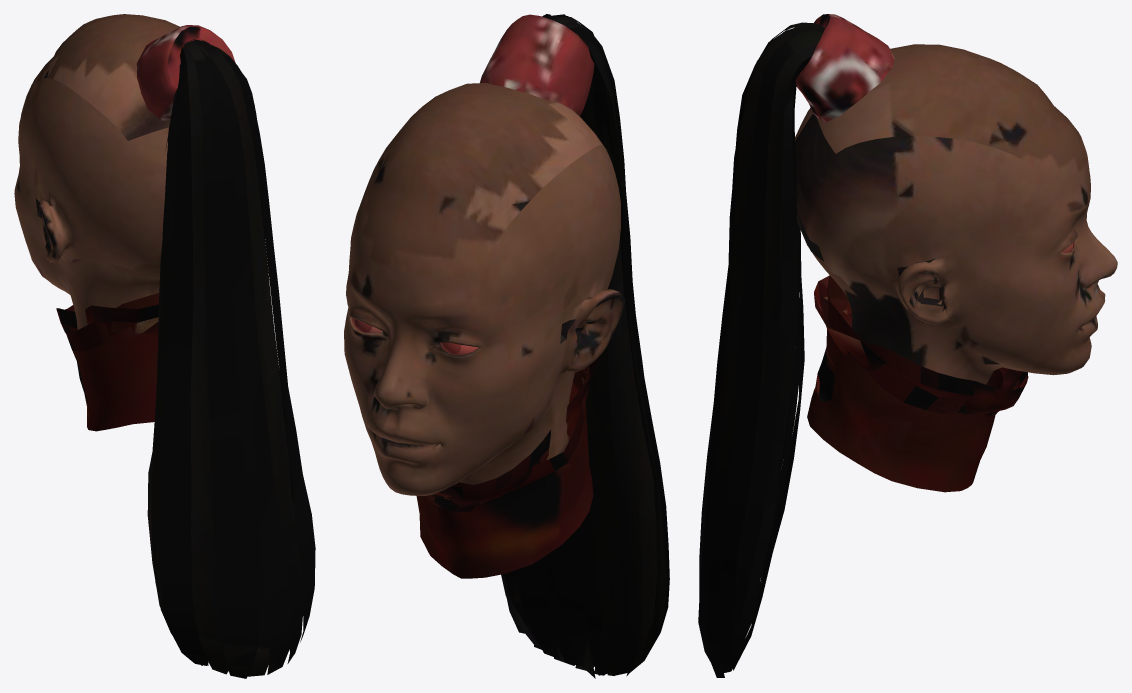
3 renders of one model, left to right at view 1: azimuth 30°, elevation 25°; view 2: azimuth 150°, elevation 25°; view 3: azimuth 270°, elevation 25°, orthographic. The views are drawn at different scales.
Parts seen in each view (by area): view 1: mesh_0; view 2: mesh_0; view 3: mesh_0.
Boxes of the visible parts, x1,y1,x2,y2 form: mesh_0: [14, 14, 315, 678]; mesh_0: [344, 14, 669, 678]; mesh_0: [698, 14, 1117, 677].
Size of the model in its own units: 6.97 by 19.54 by 11.51.
1 material, 1 textured.
